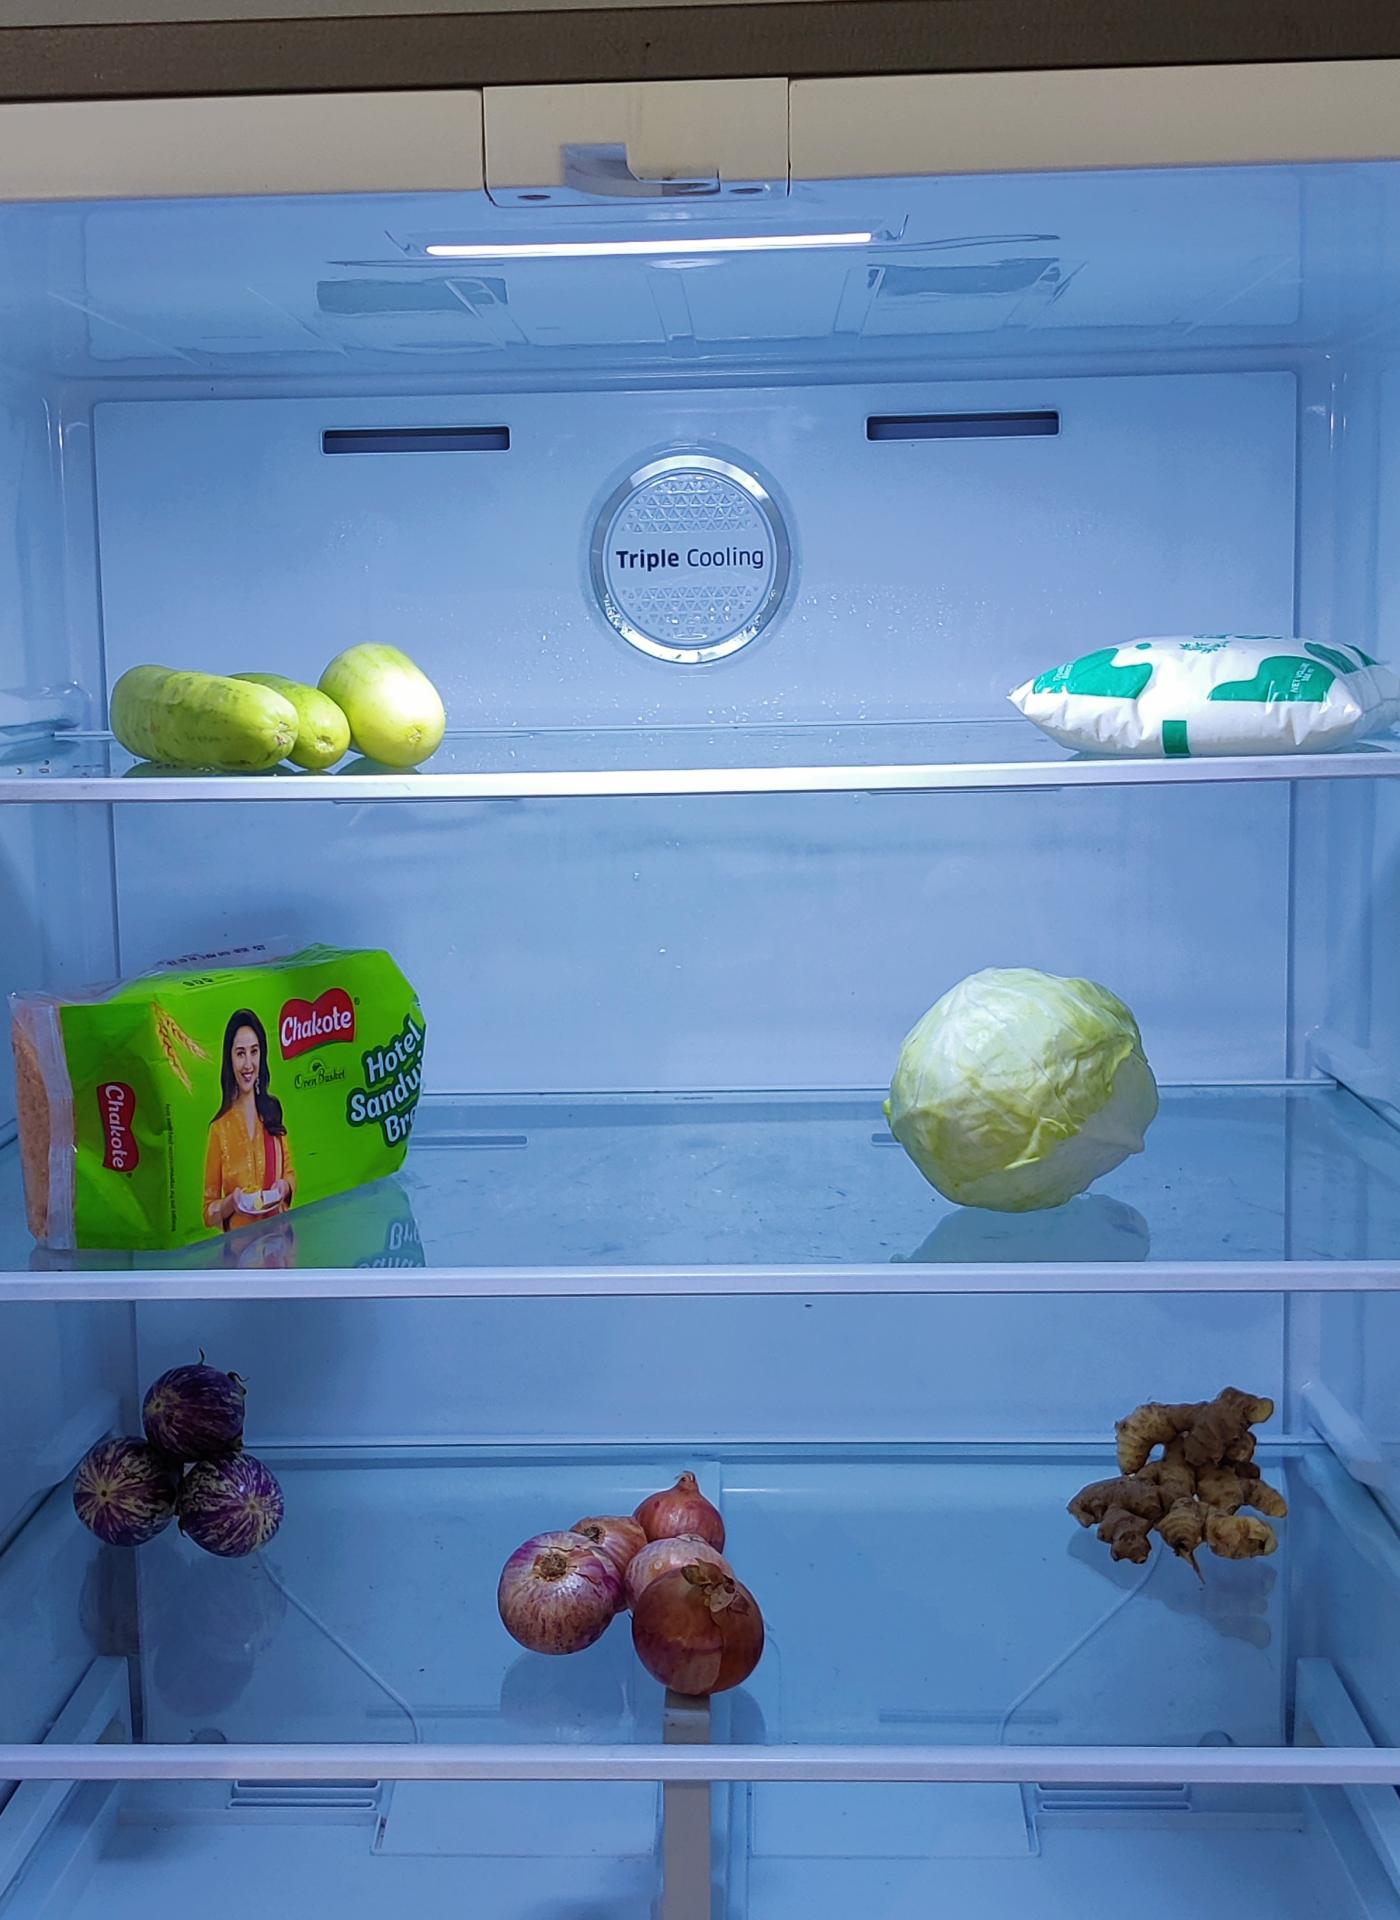bread: (13, 942, 435, 1246)
brinjal: (61, 1371, 291, 1562)
cabbage: (887, 969, 1161, 1216)
cucumber: (110, 648, 453, 789)
ginger: (1068, 1380, 1291, 1571)
milk: (1011, 628, 1387, 763)
onion: (494, 1476, 768, 1708)
